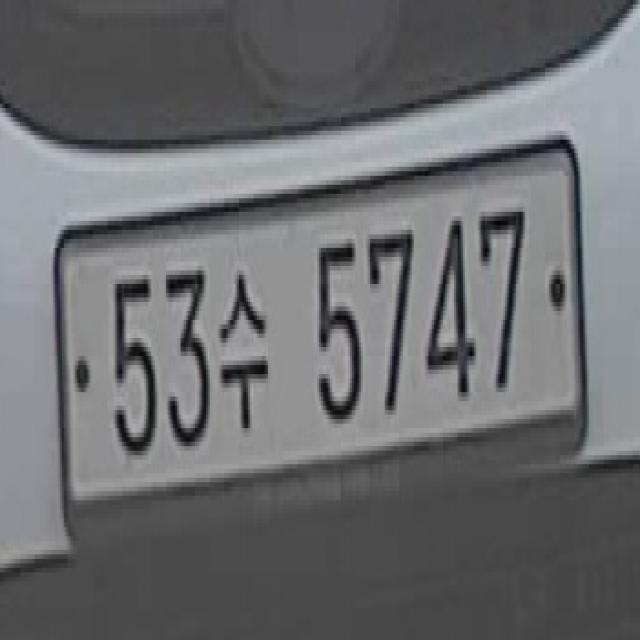3: (163, 258, 213, 462)
4: (421, 210, 476, 424)
5: (108, 261, 160, 474), (313, 238, 364, 444)
7: (476, 194, 528, 419), (366, 226, 414, 432)
license_plate: (46, 90, 606, 603)
su: (216, 256, 272, 456)
